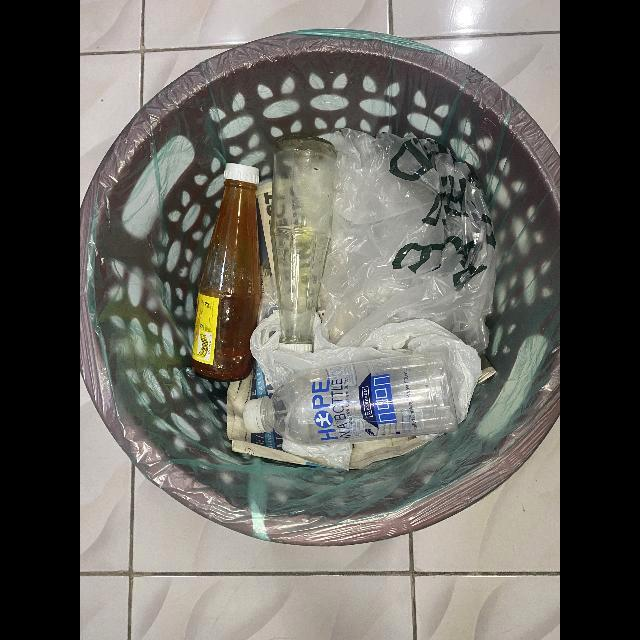glass_bottle: (192, 163, 261, 383), (270, 137, 337, 355)
paper: (226, 360, 331, 469)
plastic_bag: (317, 128, 497, 353)
plastic_bottle: (243, 353, 457, 445)
